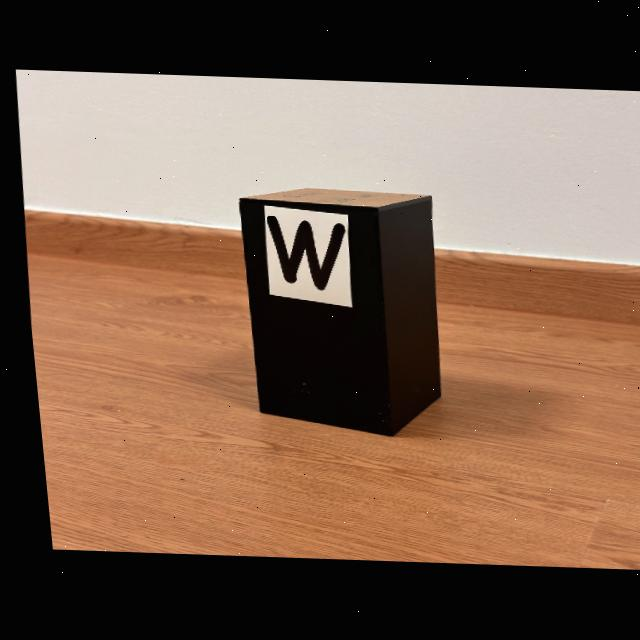W: (261, 216, 339, 288)
